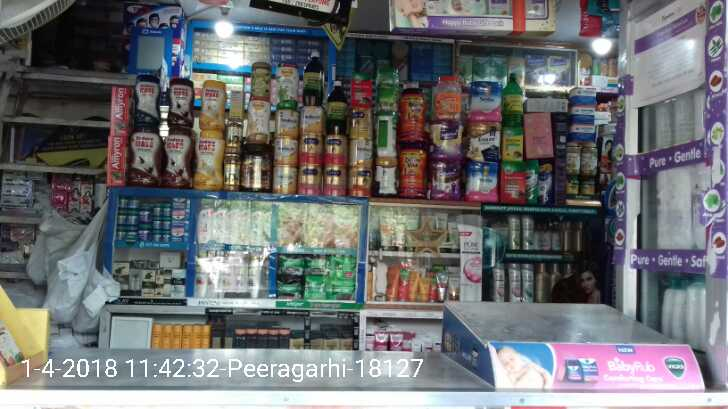vicks: (117, 198, 187, 242)
